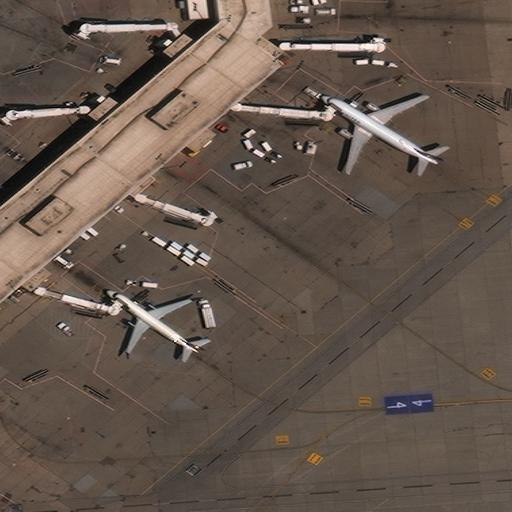Medium Civil Transport: (321, 95, 444, 168), (105, 289, 204, 349)
